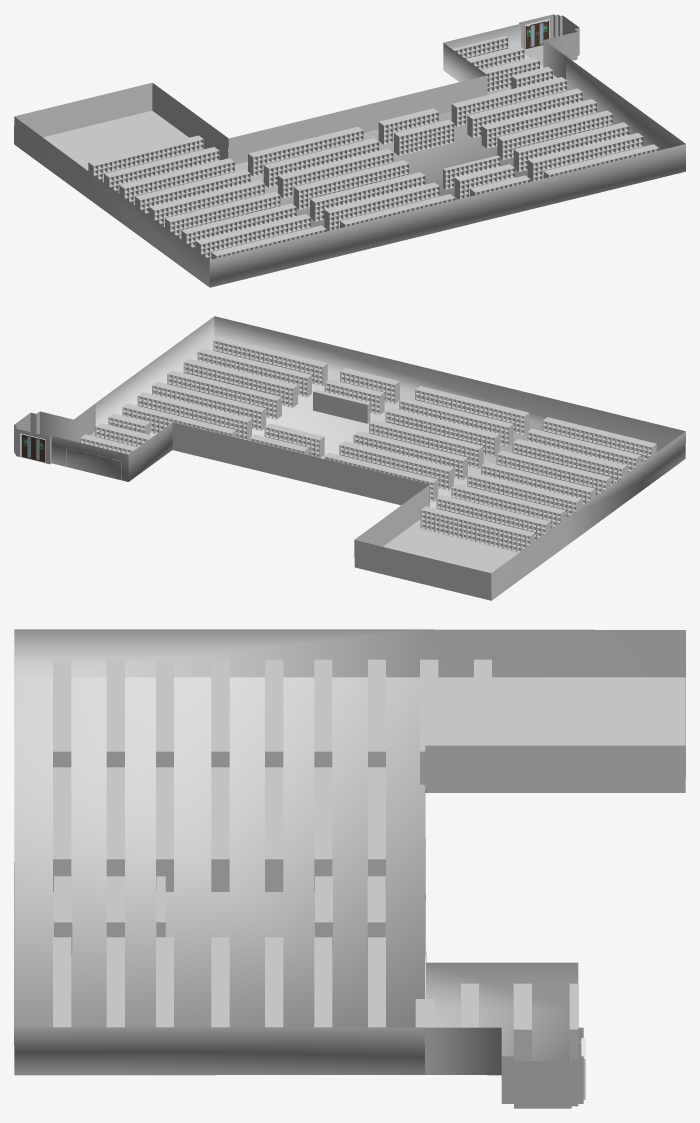
The model's file is SeabornLibrary.FBX.
3 views of the same model, one above another, from view 1: azimuth 30°, elevation 25°; view 2: azimuth 150°, elevation 25°; view 3: azimuth 270°, elevation 25° (orthographic). The views are drawn at different scales.
Visible parts, largest first — view 1: LibrarySection2, Plane005, LibrarySectionA, bookcase021, bookcase007, bookcase008, bookcase005, bookcase020, bookcase022, bookcase019, bookcase011, bookcase028 (+24 smaller); view 2: LibrarySection2, Plane005, LibrarySectionA, bookcase031, bookcase017, bookcase009, bookcase018, bookcase007, bookcase021, bookcase023, bookcase010, bookcase006 (+23 smaller); view 3: LibrarySection2, Plane005, LibrarySectionA, bookcase022, bookcase021, bookcase017, bookcase023, bookcase018, bookcase019, bookcase028, bookcase030, bookcase029 (+21 smaller).
Part boxes in pixels (bbox=[...]): LibrarySection2: bbox=[89, 56, 685, 287]; Plane005: bbox=[14, 82, 228, 199]; LibrarySectionA: bbox=[443, 14, 579, 94]; bookcase021: bbox=[293, 160, 409, 209]; bookcase007: bbox=[497, 110, 612, 159]; bookcase008: bbox=[481, 99, 597, 148]; bookcase005: bbox=[451, 77, 567, 126]; bookcase020: bbox=[248, 126, 363, 176]; bookcase022: bbox=[278, 148, 393, 198]; bookcase019: bbox=[324, 182, 439, 230]; bookcase011: bbox=[528, 133, 643, 181]; bookcase028: bbox=[165, 191, 280, 238]; LibrarySection2: bbox=[95, 316, 685, 545]; Plane005: bbox=[354, 485, 567, 600]; LibrarySectionA: bbox=[14, 403, 172, 481]; bookcase031: bbox=[420, 506, 534, 552]; bookcase017: bbox=[385, 408, 499, 456]; bookcase009: bbox=[183, 358, 297, 407]; bookcase018: bbox=[415, 386, 529, 435]; bookcase007: bbox=[167, 370, 281, 419]; bookcase021: bbox=[369, 419, 483, 468]; bookcase023: bbox=[339, 441, 453, 490]; bookcase010: bbox=[213, 337, 327, 385]; bookcase006: bbox=[137, 392, 251, 440]; LibrarySection2: bbox=[14, 629, 426, 1075]; Plane005: bbox=[425, 629, 685, 792]; LibrarySectionA: bbox=[424, 962, 583, 1108]; bookcase022: bbox=[265, 767, 283, 891]; bookcase021: bbox=[211, 767, 229, 891]; bookcase017: bbox=[156, 767, 173, 891]; bookcase023: bbox=[314, 767, 332, 891]; bookcase018: bbox=[53, 767, 71, 891]; bookcase019: bbox=[106, 767, 124, 876]; bookcase028: bbox=[211, 659, 229, 767]; bookcase030: bbox=[314, 659, 332, 767]; bookcase029: bbox=[265, 659, 283, 767].
Bounding box in the file's own units: 2211 × 116 × 1456.
